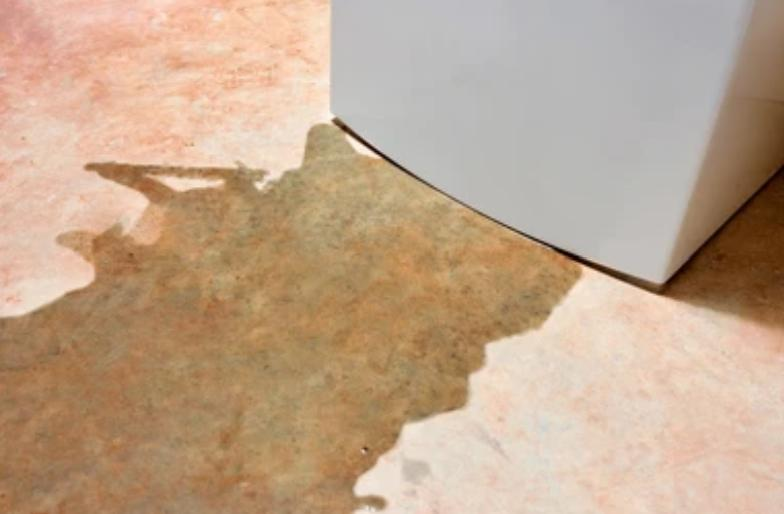water accumulation: (0, 122, 585, 514)
